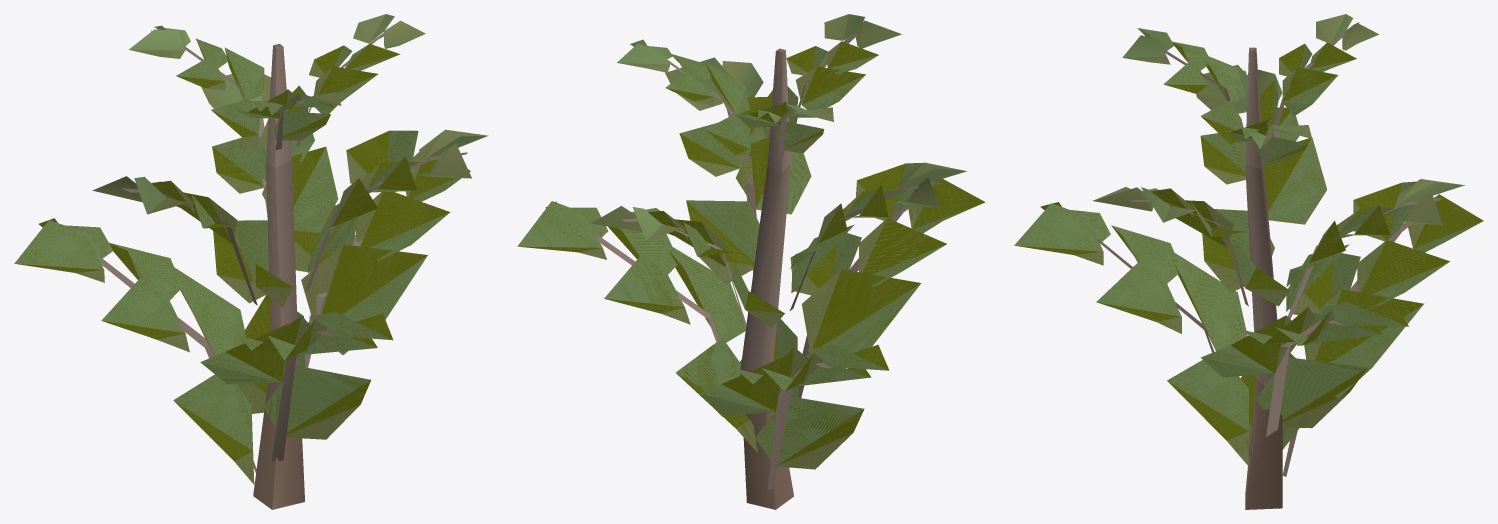
3 renders of one model, left to right at view 1: azimuth 30°, elevation 25°; view 2: azimuth 150°, elevation 25°; view 3: azimuth 270°, elevation 25°, orthographic. The views are drawn at different scales.
Parts seen in each view (by area): view 1: model; view 2: model; view 3: model.
Part boxes in pixels (<box>): model: <box>14,14,488,509</box>; model: <box>517,14,985,509</box>; model: <box>1014,14,1483,509</box>.
Bounding box in the file's own units: 0.9609 × 1.04 × 0.9844.
